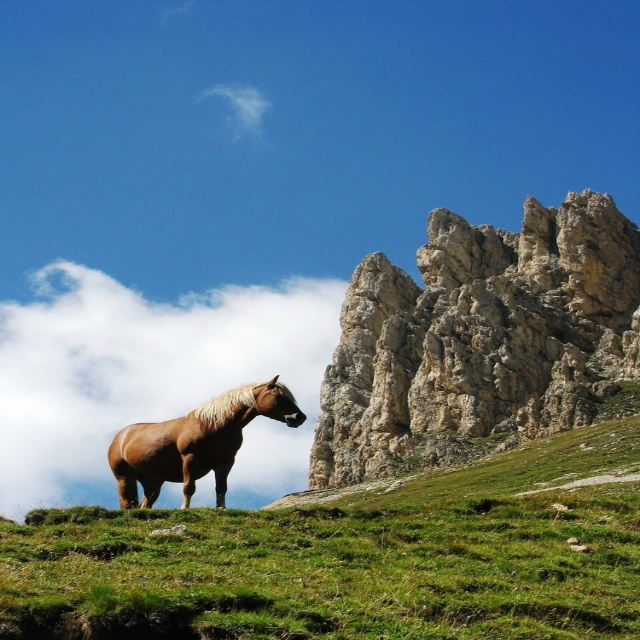Horse: (104, 372, 310, 507)
